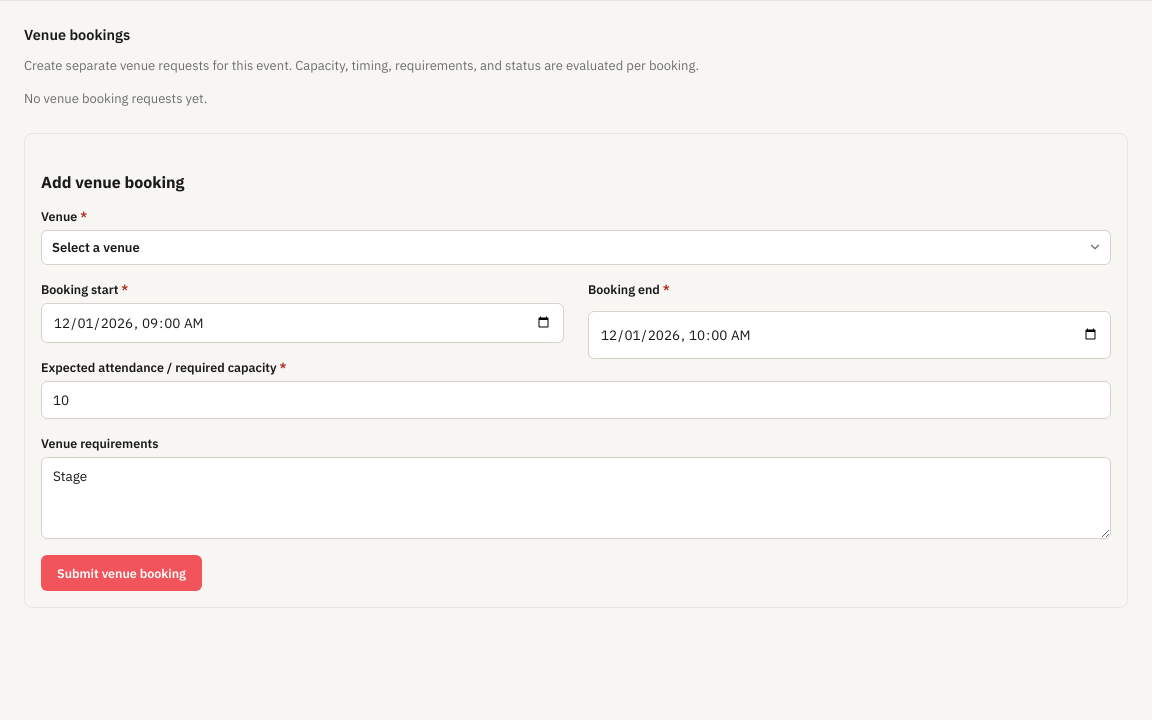
Test case: SCRUM-30 a delayed conflict cannot describe a newly edited time
This screenshot has width=1152, height=720.
Expected: the text "No venue booking requests yet." is shown, [24,90,207,107]
Step 1. Select "Hall · capacity 100" in the dropdown labelled "Venue *" → (576,247), box [41,230,1111,264]
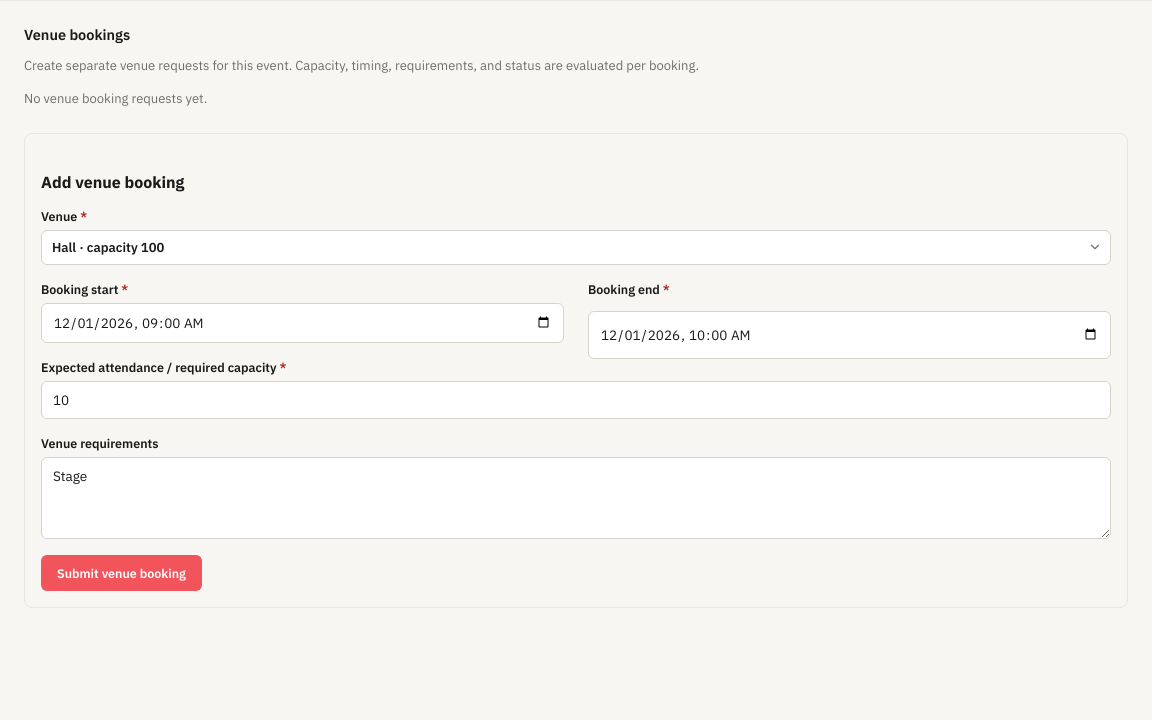
Step 2. Click the button "Submit venue booking" → (121,572), box [41,554,202,590]
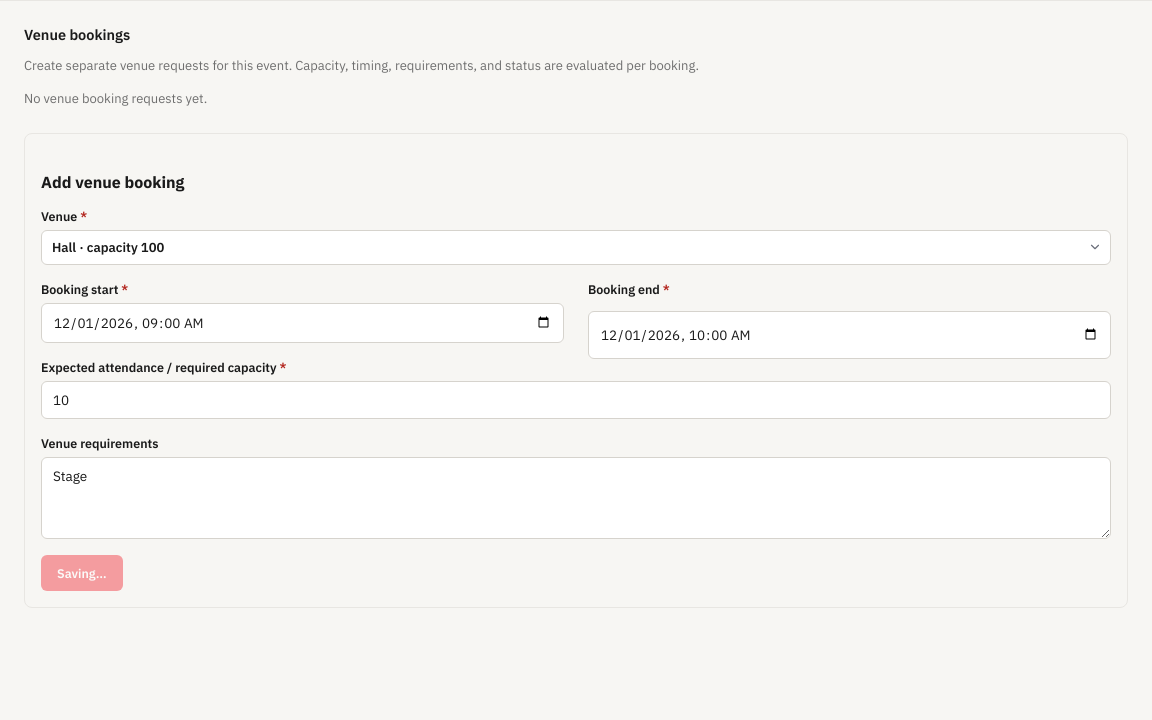
Step 3. Replace the text in the field labelled "Booking start *" with "2026-12-01T08:00" → (302,322), box [41,302,564,342]
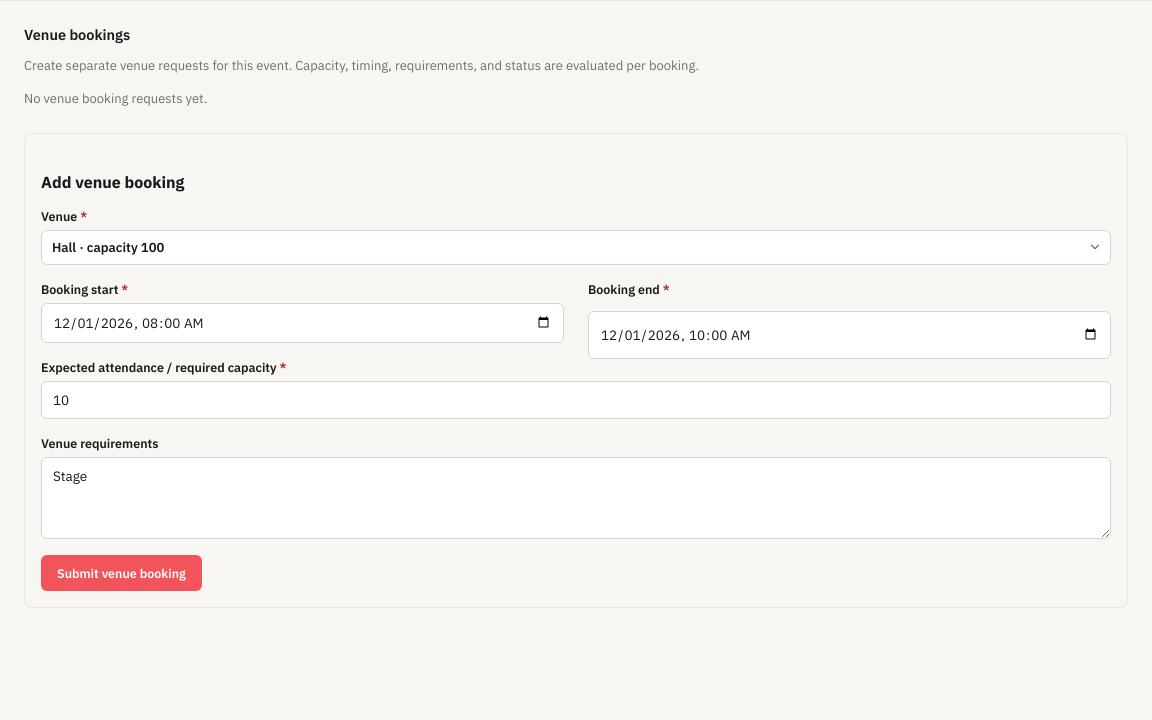
Expected: the button "Submit venue booking" is enabled, [41,554,202,590]
